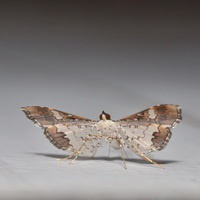insect: (21, 104, 181, 167)
